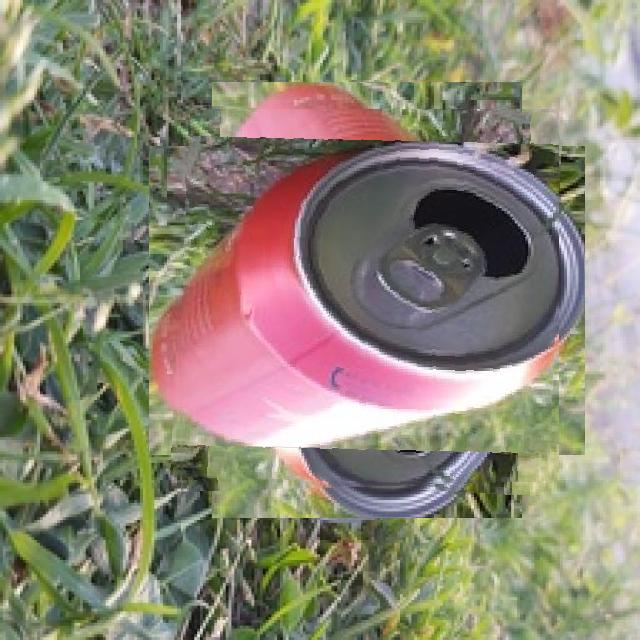recyclable: (175, 109, 559, 492)
